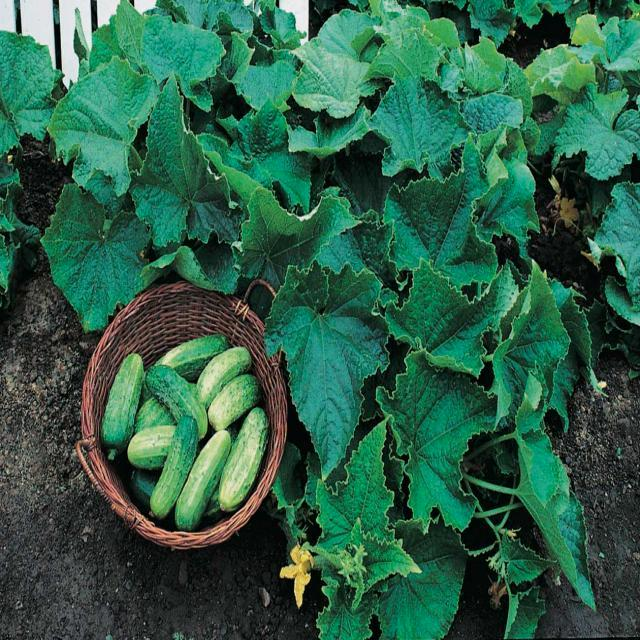Cucumber: (175, 429, 232, 529), (218, 408, 269, 512), (149, 416, 199, 522), (144, 364, 208, 444), (101, 352, 146, 454), (206, 374, 260, 434)
